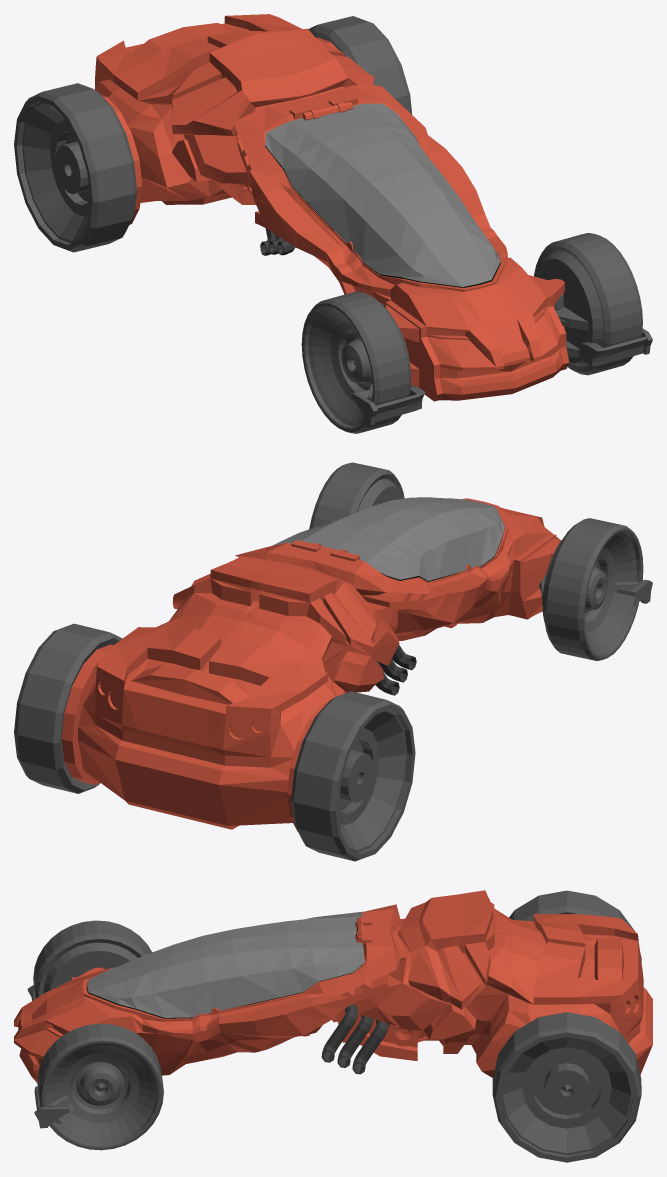
Rendered from Futuristic_Car.dae.
3 views of the same model, one above another, from view 1: azimuth 30°, elevation 25°; view 2: azimuth 150°, elevation 25°; view 3: azimuth 270°, elevation 25° (orthographic). The views are drawn at different scales.
Parts seen in each view (by area): view 1: Speed_car_00_000, Cube_045, Speed_car_00, Cube_044; view 2: Speed_car_00_000, Cube_044, Speed_car_00, Cube_045; view 3: Speed_car_00_000, Cube_044, Speed_car_00, Cube_045.
Part boxes in pixels (x1,y1,x2,y2): Speed_car_00_000: (95, 14, 569, 401); Cube_045: (265, 103, 500, 287); Speed_car_00: (301, 233, 652, 433); Cube_044: (14, 16, 412, 252); Speed_car_00_000: (61, 498, 561, 831); Cube_044: (14, 623, 415, 861); Speed_car_00: (309, 462, 652, 660); Cube_045: (272, 497, 504, 581); Speed_car_00_000: (14, 890, 652, 1082); Cube_044: (492, 890, 641, 1162); Speed_car_00: (27, 920, 163, 1150); Cube_045: (87, 911, 364, 1018).
Bounding box in the file's own units: 1.09 × 2.09 × 0.6666.
